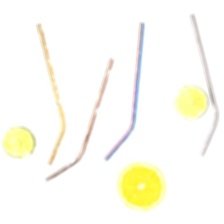drinking_straw: (39, 55, 116, 187), (97, 20, 149, 164), (26, 22, 69, 168), (182, 12, 222, 161)
